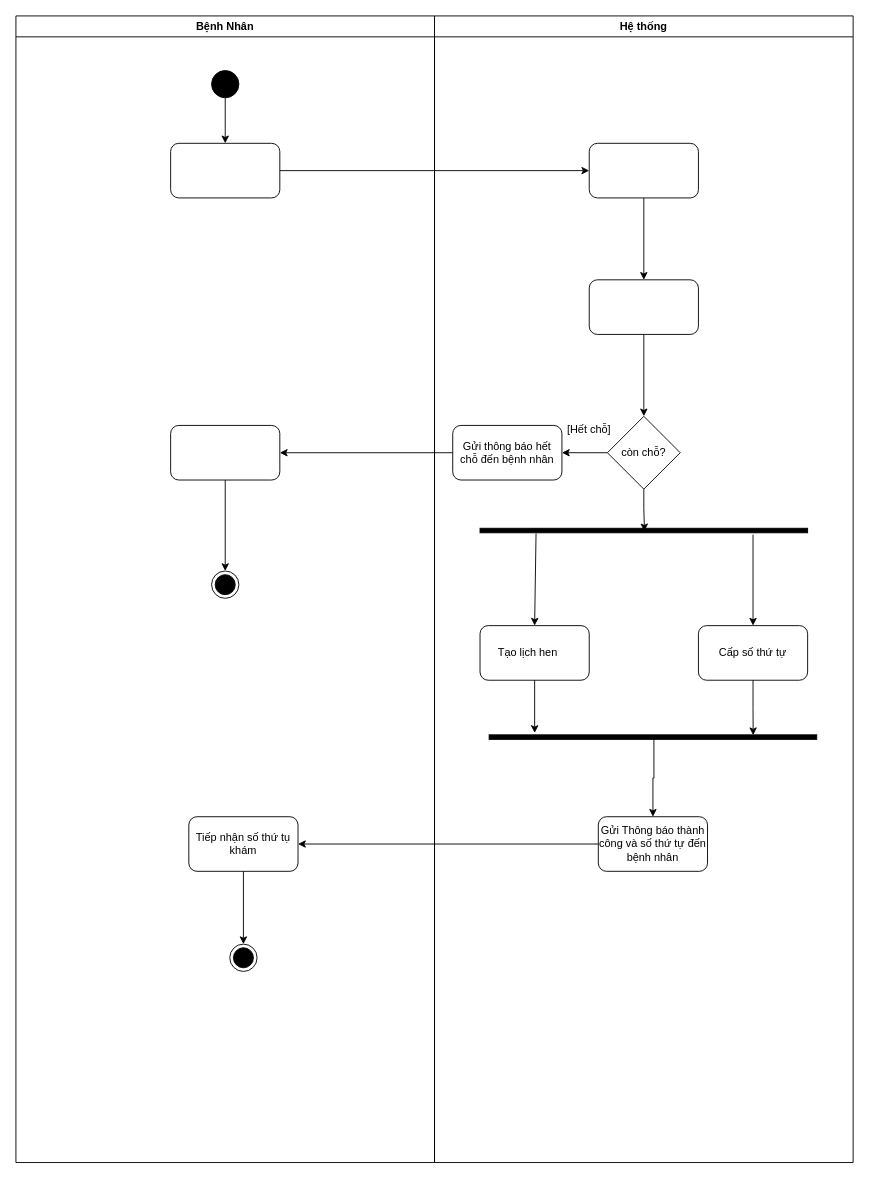
Image size: 869x1178. Some labels were removed from this diagram. The shapes that lost their labels are listed below. From the top down, each one's centre as x and y in pixels, then its label:
pixel 225 170: Xác nhận đặt lịch
pixel 643 170: Tiếp nhận yêu cầu đặt lịch
pixel 643 306: Kiểm tra khung giờ còn chỗ
pixel 225 452: Tiếp nhận thông báo
